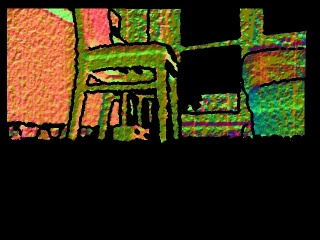station: (112, 92, 139, 141)
